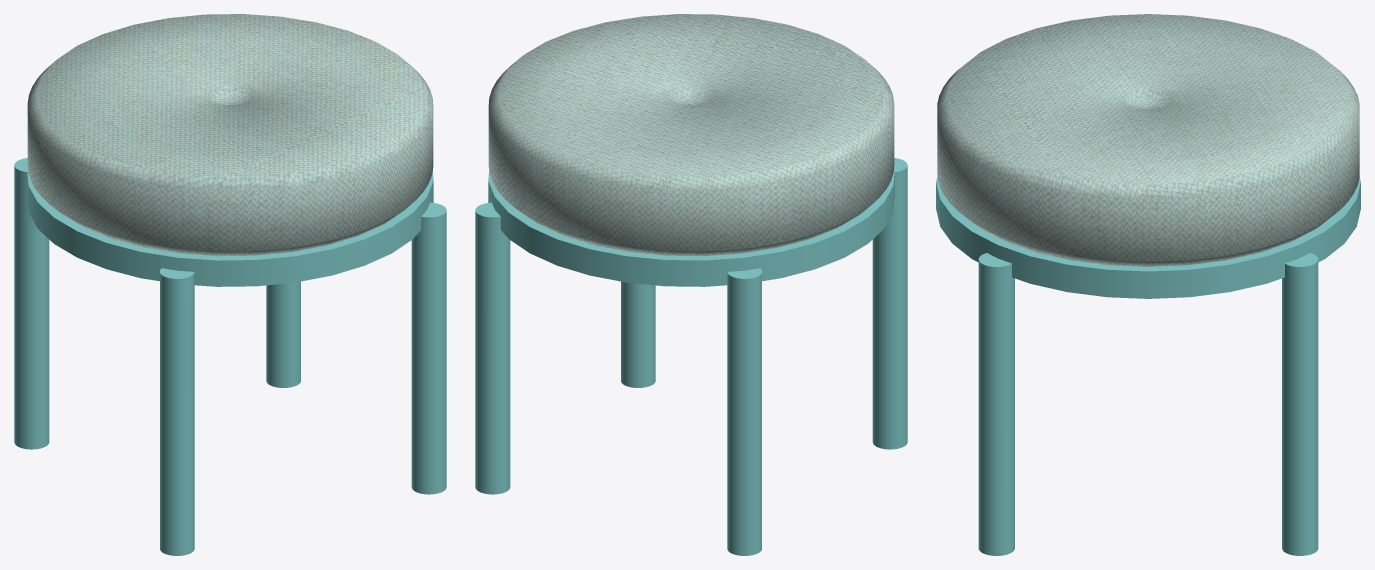
The model's file is furniture_seating_210055.glb.
The picture shows the model from 3 angles, left to right: view 1: azimuth 30°, elevation 25°; view 2: azimuth 150°, elevation 25°; view 3: azimuth 270°, elevation 25°; orthographic projection. The views are drawn at different scales.
Visible parts, largest first — view 1: furniture_seating_210055; view 2: furniture_seating_210055; view 3: furniture_seating_210055.
Boxes of the visible parts, box(x1,y1,x2,y2) form: furniture_seating_210055: box(14, 14, 446, 555); furniture_seating_210055: box(475, 14, 907, 555); furniture_seating_210055: box(936, 14, 1360, 555).
Size of the model in its own units: 0.336 by 0.336 by 0.336.
1 material, 1 textured.
